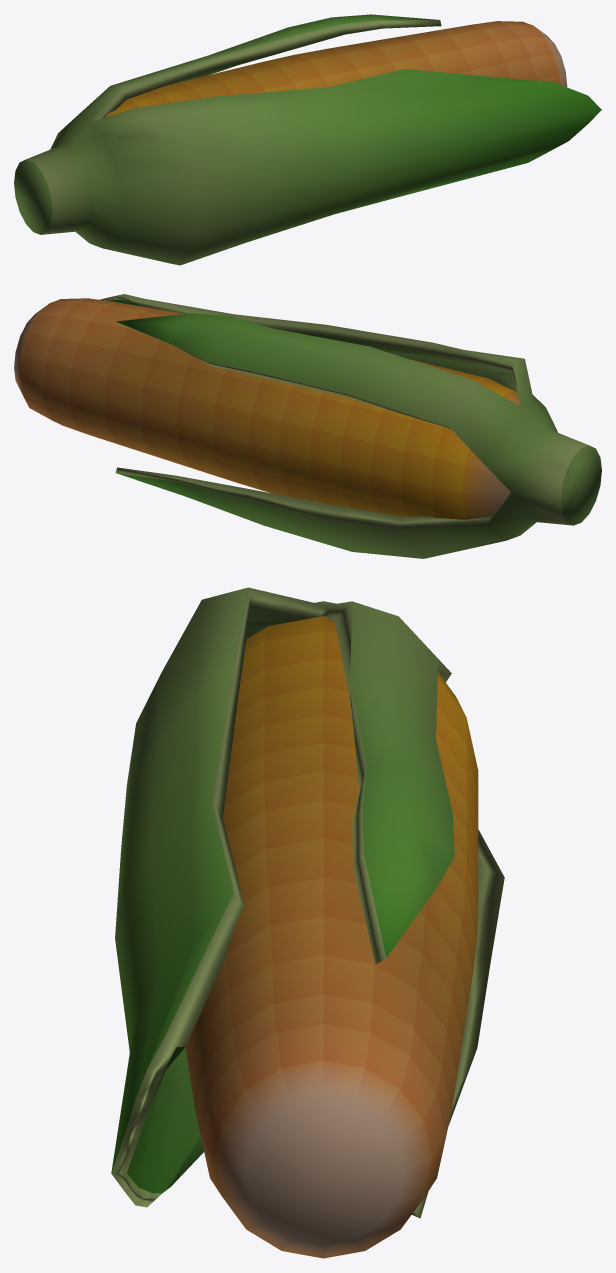
3 views of the same model, one above another, from view 1: azimuth 30°, elevation 25°; view 2: azimuth 150°, elevation 25°; view 3: azimuth 270°, elevation 25° (orthographic). The views are drawn at different scales.
Parts seen in each view (by area): view 1: base.004; view 2: base.004; view 3: base.004.
Part boxes in pixels (x1,y1,x2,y2): base.004: (14, 14, 601, 265); base.004: (14, 294, 601, 558); base.004: (111, 587, 504, 1258).
Size of the model in its own units: 0.5 by 0.1678 by 0.1637.
